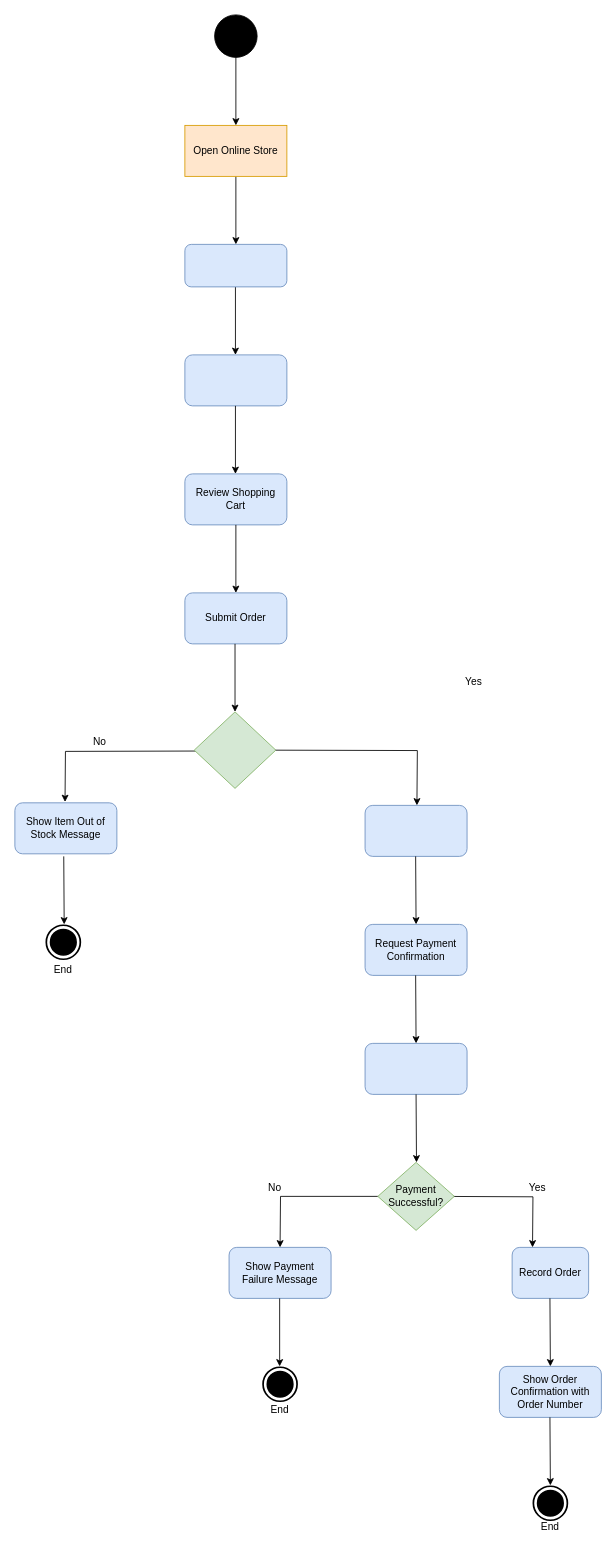
Image size: 616x1555. Some labels were removed from this diagram. Here are the shapes that lost their labels. From the top down, the centre of each, then its label:
point (235, 265): Select Products
point (235, 380): Add Products to Shopping Cart
point (234, 749): All are Products Avalaible
point (415, 830): Calculate Payable Amount
point (415, 1068): Process Payment
